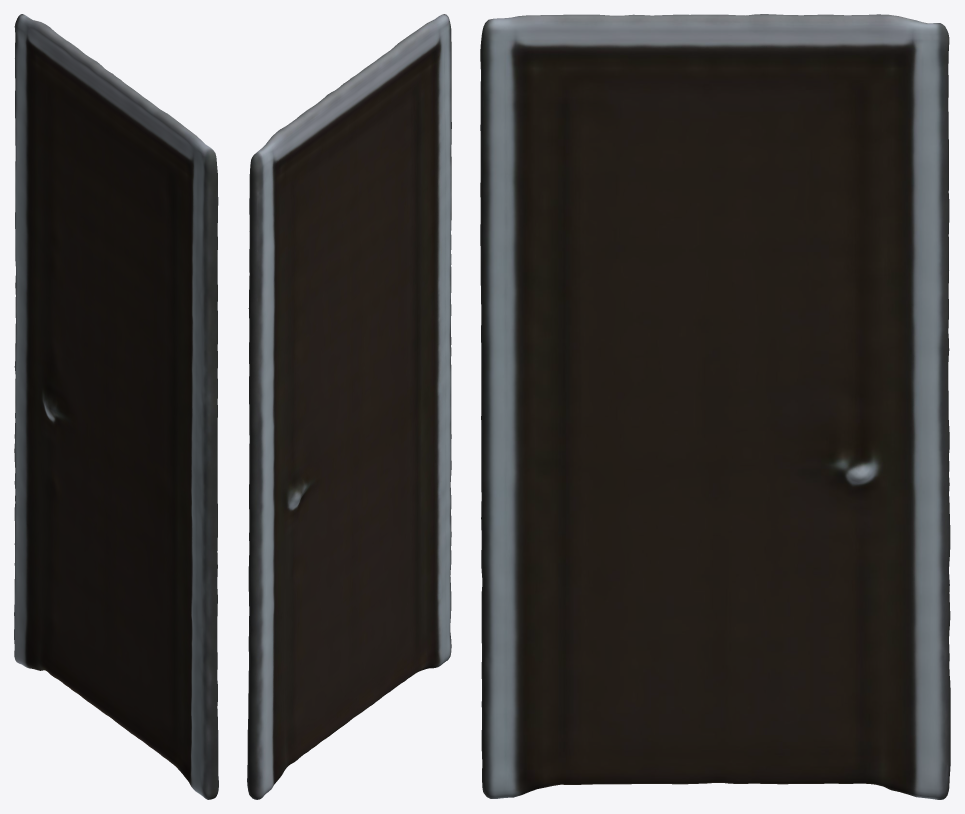
Rendered from brownDoor.glb.
3 renders of one model, left to right at view 1: azimuth 30°, elevation 25°; view 2: azimuth 150°, elevation 25°; view 3: azimuth 270°, elevation 25°, orthographic. The views are drawn at different scales.
Visible parts, largest first — view 1: mesh; view 2: mesh; view 3: mesh.
Boxes of the visible parts, left/top/right/bottom form: mesh: left=14, top=14, right=218, bottom=799; mesh: left=247, top=14, right=451, bottom=799; mesh: left=480, top=14, right=950, bottom=799.
Bounding box in the file's own units: 0.0339 × 0.9987 × 0.5435.
Materials: 1 (1 with a texture image).
